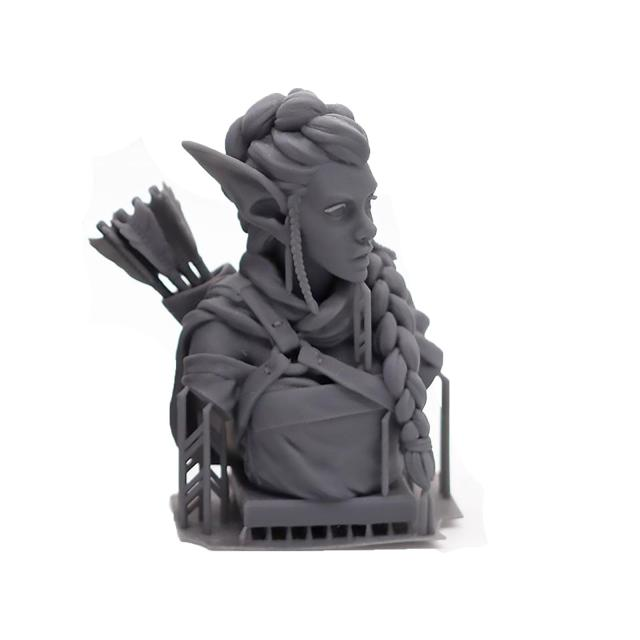Without deffect: (79, 80, 524, 566)
